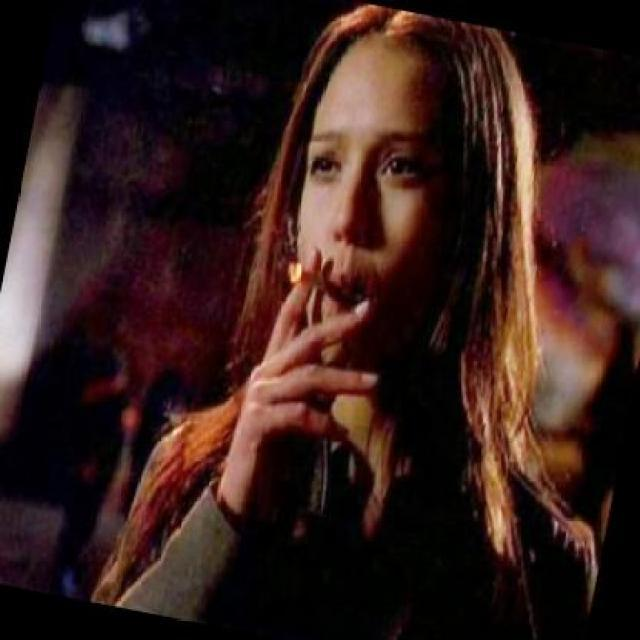smoke: (283, 260, 332, 292)
